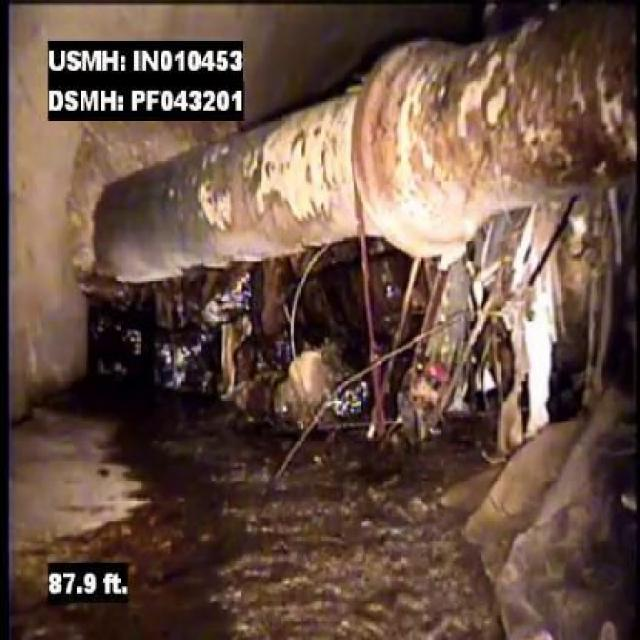Debris: (434, 392, 632, 638)
Utility intrusion: (81, 8, 638, 294)
